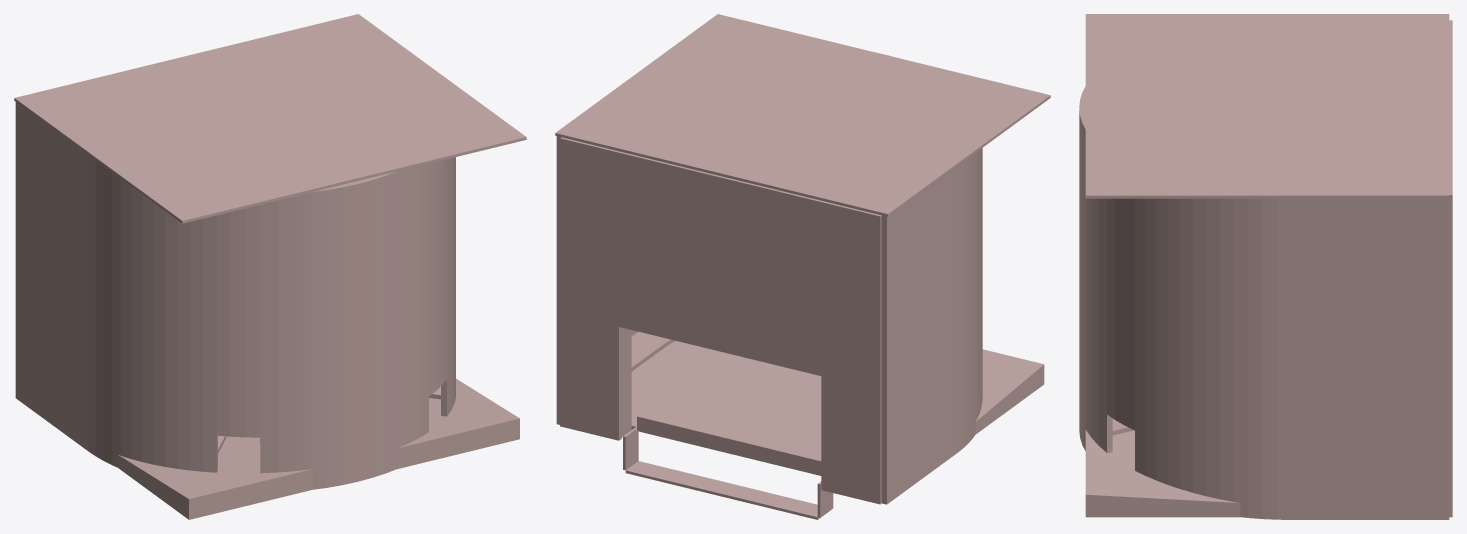
The model's file is sala.glb.
3 views of the same model, side by side, from view 1: azimuth 30°, elevation 25°; view 2: azimuth 150°, elevation 25°; view 3: azimuth 270°, elevation 25° (orthographic). The views are drawn at different scales.
Visible parts, largest first — view 1: sala_teto, sala_ferradura-centro, sala_ferradura-esq, sala_parede-reta-esq, sala_plateia-rake, sala_ferradura-verga-esq, sala_ferradura-verga-dir, sala_ferradura-dir; view 2: sala_teto, sala_boca-verga, sala_parede-reta-esq, sala_plateia-rake, sala_boca-esq, sala_boca-dir, sala_ferradura-esq, sala_fosso-piso, sala_fosso-parapeito, sala_parede-reta-dir, sala_proscenio-dir, sala_anel1-reta-dir (+1 smaller); view 3: sala_teto, sala_parede-reta-dir, sala_ferradura-dir, sala_ferradura-centro, sala_plateia-rake, sala_ferradura-verga-dir, sala_boca-dir, sala_boca-verga.
Boxes of the visible parts, left/top/right/bottom form: sala_teto: left=14, top=14, right=526, bottom=223; sala_ferradura-centro: left=260, top=163, right=428, bottom=489; sala_ferradura-esq: left=88, top=155, right=217, bottom=472; sala_parede-reta-esq: left=15, top=102, right=88, bottom=450; sala_plateia-rake: left=117, top=378, right=519, bottom=519; sala_ferradura-verga-esq: left=216, top=205, right=260, bottom=437; sala_ferradura-verga-dir: left=429, top=159, right=446, bottom=395; sala_ferradura-dir: left=441, top=157, right=455, bottom=416; sala_teto: left=555, top=14, right=1050, bottom=216; sala_boca-verga: left=619, top=151, right=822, bottom=375; sala_parede-reta-esq: left=881, top=167, right=956, bottom=504; sala_plateia-rake: left=631, top=341, right=1044, bottom=475; sala_boca-esq: left=821, top=201, right=881, bottom=504; sala_boca-dir: left=560, top=137, right=621, bottom=440; sala_ferradura-esq: left=957, top=148, right=982, bottom=452; sala_fosso-piso: left=625, top=461, right=830, bottom=519; sala_fosso-parapeito: left=637, top=415, right=821, bottom=474; sala_parede-reta-dir: left=556, top=136, right=631, bottom=424; sala_proscenio-dir: left=622, top=327, right=631, bottom=436; sala_anel1-reta-dir: left=631, top=336, right=663, bottom=371; sala_teto: left=1085, top=14, right=1449, bottom=198; sala_parede-reta-dir: left=1292, top=198, right=1449, bottom=519; sala_ferradura-dir: left=1135, top=198, right=1292, bottom=519; sala_ferradura-centro: left=1079, top=86, right=1112, bottom=452; sala_plateia-rake: left=1085, top=430, right=1240, bottom=517; sala_ferradura-verga-dir: left=1107, top=198, right=1134, bottom=430; sala_boca-dir: left=1449, top=163, right=1452, bottom=517; sala_boca-verga: left=1449, top=52, right=1452, bottom=162.
Size of the model in its own units: 26 by 24.1 by 22.6.
